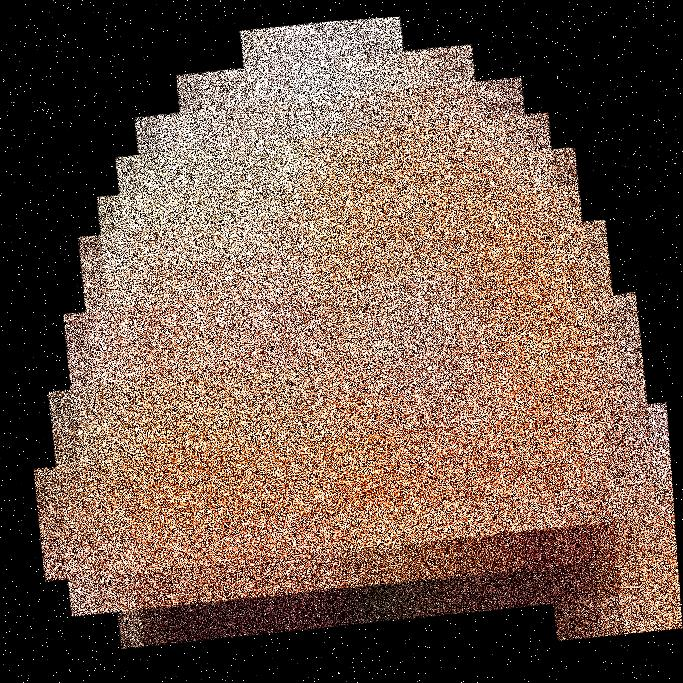Capacete: (136, 0, 604, 682)
